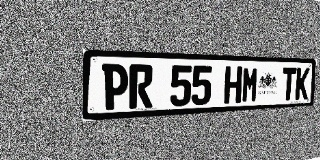5: (170, 65, 192, 107), (191, 65, 212, 106)
H: (224, 66, 242, 104)
K: (295, 68, 310, 100)
M: (241, 66, 259, 103)
P: (102, 64, 128, 110)
R: (129, 64, 153, 109)
T: (281, 67, 297, 101)
